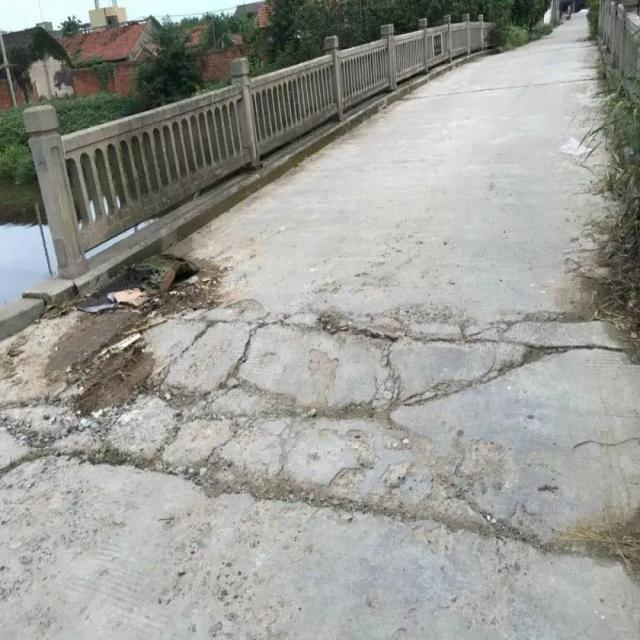Pothole: (28, 306, 632, 565)
